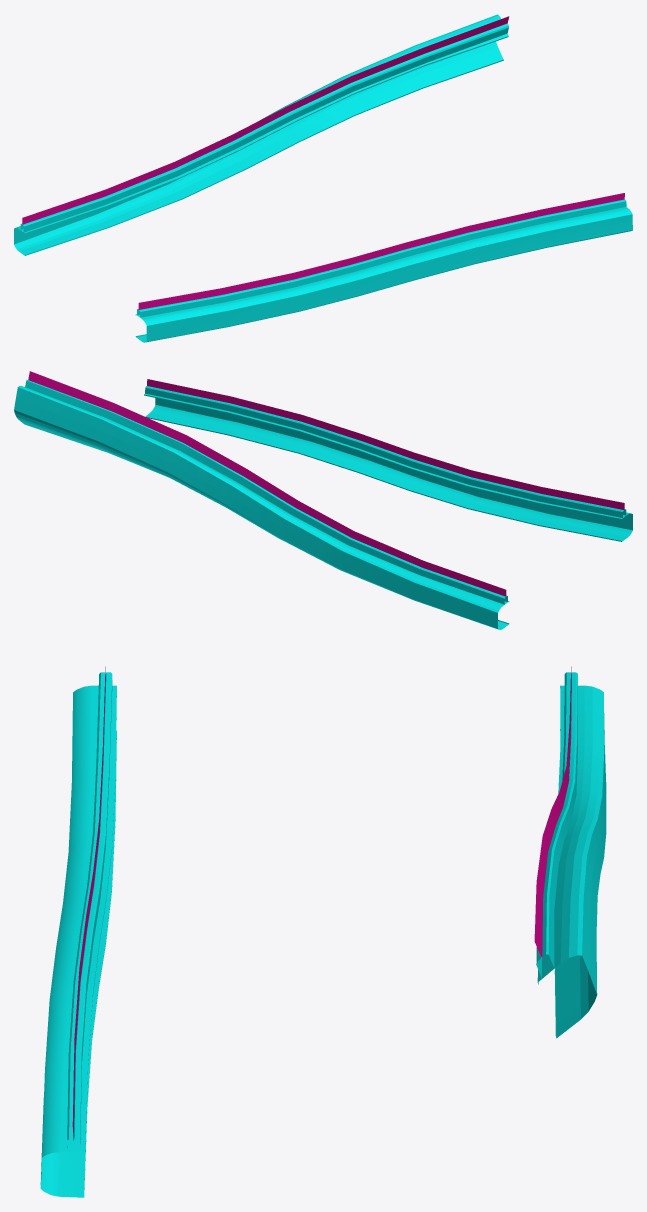
The model's file is Mur_Transition_Droit.fbx.
3 views of the same model, one above another, from view 1: azimuth 30°, elevation 25°; view 2: azimuth 150°, elevation 25°; view 3: azimuth 270°, elevation 25° (orthographic). The views are drawn at different scales.
Parts seen in each view (by area): view 1: polySurface1041; view 2: polySurface1041; view 3: polySurface1041.
Part boxes in pixels (bbox=[...]): polySurface1041: bbox=[14, 14, 632, 342]; polySurface1041: bbox=[14, 371, 632, 629]; polySurface1041: bbox=[40, 666, 606, 1197].
Size of the model in its own units: 31.22 by 8.34 by 15.98.
